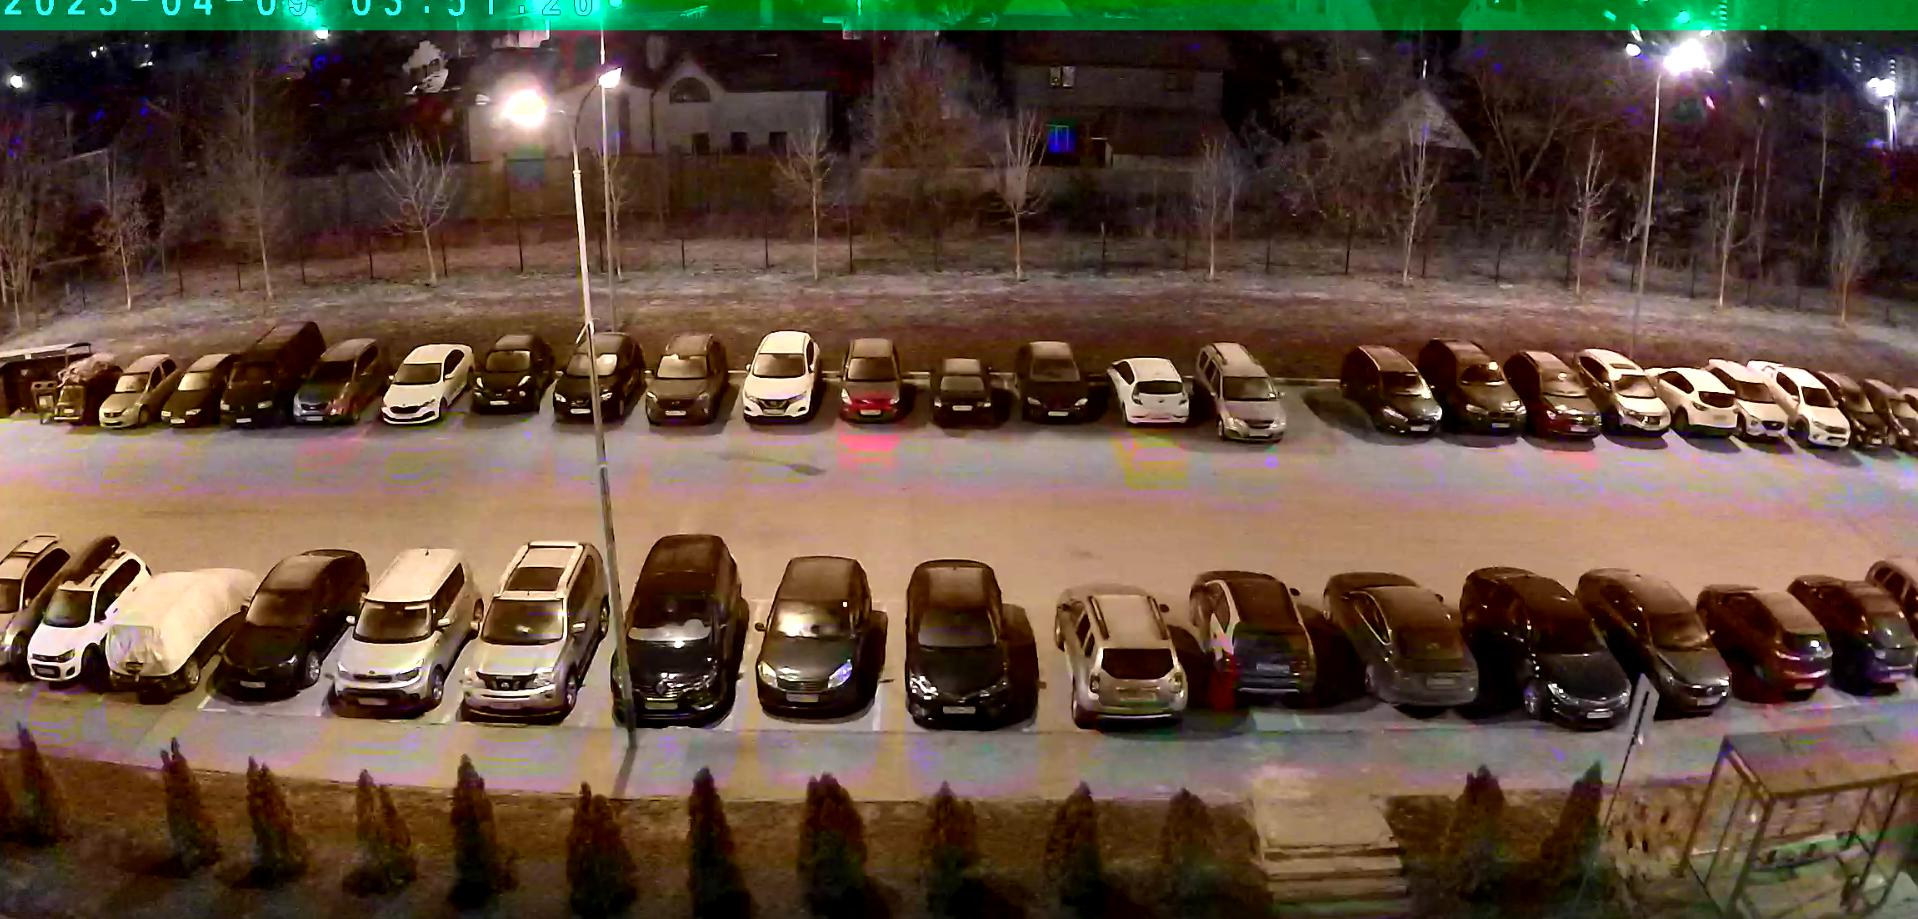empty: (1459, 562, 1626, 744), (468, 538, 609, 735), (213, 538, 367, 715), (613, 532, 744, 735), (333, 546, 483, 710), (746, 548, 883, 724), (895, 554, 1034, 726), (1574, 562, 1733, 710), (102, 557, 261, 702), (1325, 563, 1479, 712), (1056, 590, 1206, 732), (1184, 568, 1333, 702), (27, 545, 147, 690), (1699, 582, 1836, 706), (1818, 570, 1912, 694), (1427, 349, 1544, 443), (221, 319, 316, 433), (1196, 339, 1290, 448), (1342, 349, 1450, 443), (0, 536, 71, 677), (1749, 357, 1852, 452), (1569, 348, 1676, 438), (289, 333, 383, 433), (1513, 355, 1617, 445), (640, 330, 734, 430), (366, 341, 471, 426), (738, 329, 824, 431), (553, 328, 642, 426), (89, 356, 196, 431), (1699, 357, 1786, 447), (1013, 334, 1095, 428), (1649, 356, 1736, 443), (1102, 354, 1195, 433), (920, 349, 1009, 431), (467, 339, 555, 417), (144, 356, 234, 431), (837, 332, 908, 423), (50, 356, 117, 434), (1852, 379, 1916, 452)
occupied: (1277, 346, 1361, 450)
